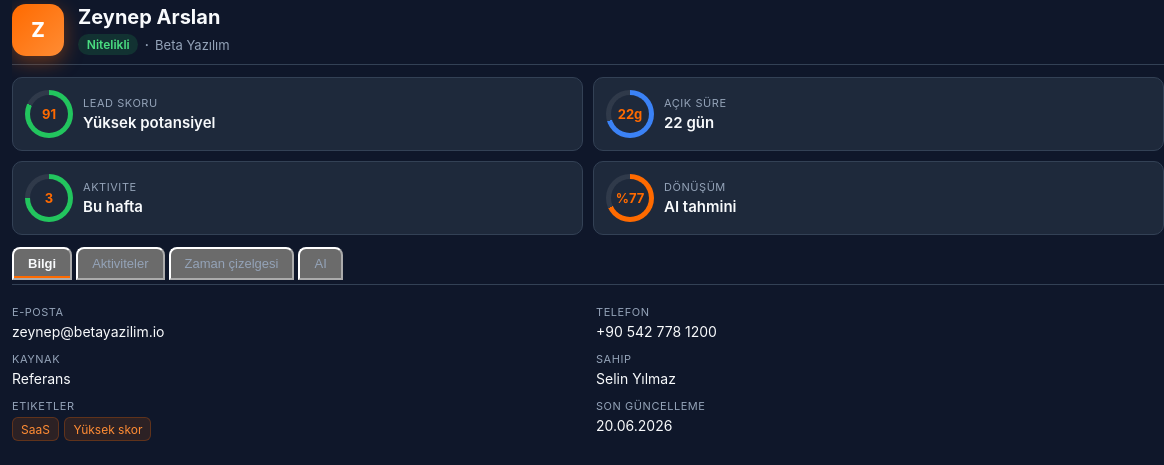
Test: LeadDetailView › renders lead detail tabs and AI panel
Expected: the heading "Zeynep Arslan" is shown, left=78, top=4, right=230, bottom=28
Expected: the text "Nitelikli" is shown, left=78, top=34, right=138, bottom=56
Step 1. Click the button "AI" → (321, 264), box left=298, top=247, right=343, bottom=280
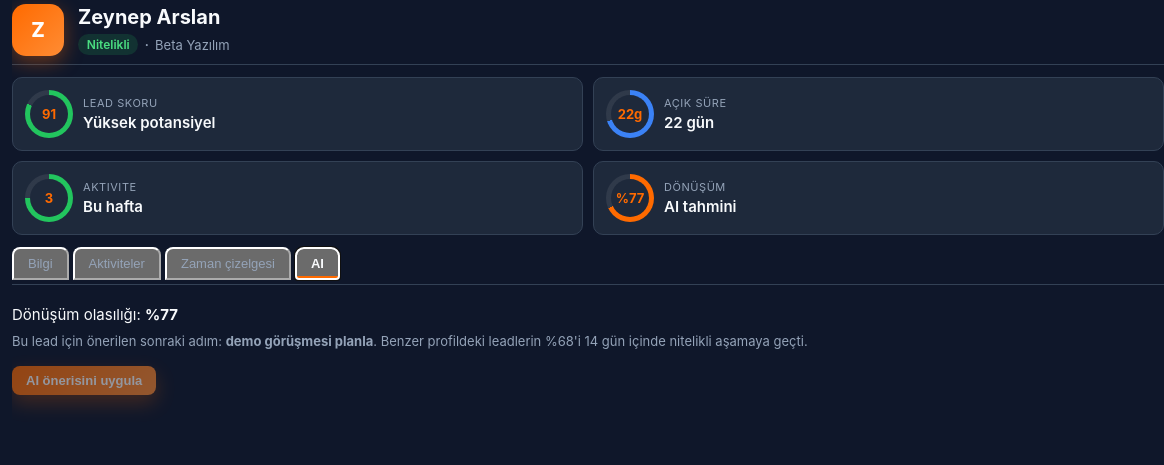
Result: the element with test id "lead-detail-ai" is shown at left=12, top=305, right=808, bottom=395
